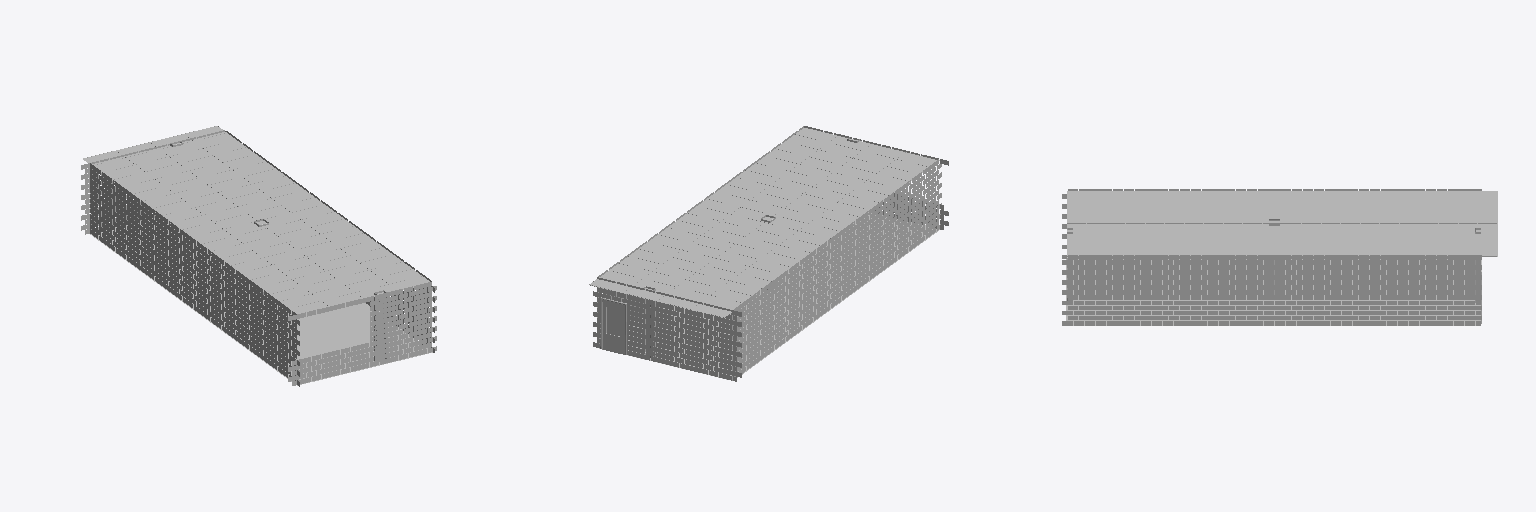
The model's file is testobj.obj.
The picture shows the model from 3 angles: view 1: azimuth 30°, elevation 25°; view 2: azimuth 150°, elevation 25°; view 3: azimuth 270°, elevation 25°; orthographic projection.
Visible parts, largest first — view 1: Plane, Cube, Cube.001, Plane.001, Cube.002; view 2: Plane, Cube, Cube.002, Plane.001, Plane.002, Cube.001; view 3: Plane, Cube, Plane.001.
Boxes of the visible parts, x1,y1,x2,y2 form: Plane: [83, 126, 429, 313]; Cube: [90, 131, 434, 386]; Cube.001: [288, 282, 436, 385]; Plane.001: [90, 218, 432, 385]; Cube.002: [81, 130, 224, 234]; Plane: [589, 128, 939, 317]; Cube: [597, 126, 941, 380]; Cube.002: [593, 277, 741, 381]; Plane.001: [599, 213, 939, 379]; Plane.002: [602, 300, 624, 354]; Cube.001: [804, 126, 948, 229]; Plane: [1067, 191, 1497, 256]; Cube: [1062, 189, 1481, 325]; Plane.001: [1066, 259, 1480, 325].
Size of the model in its own units: 6.18 by 2.81 by 15.58.